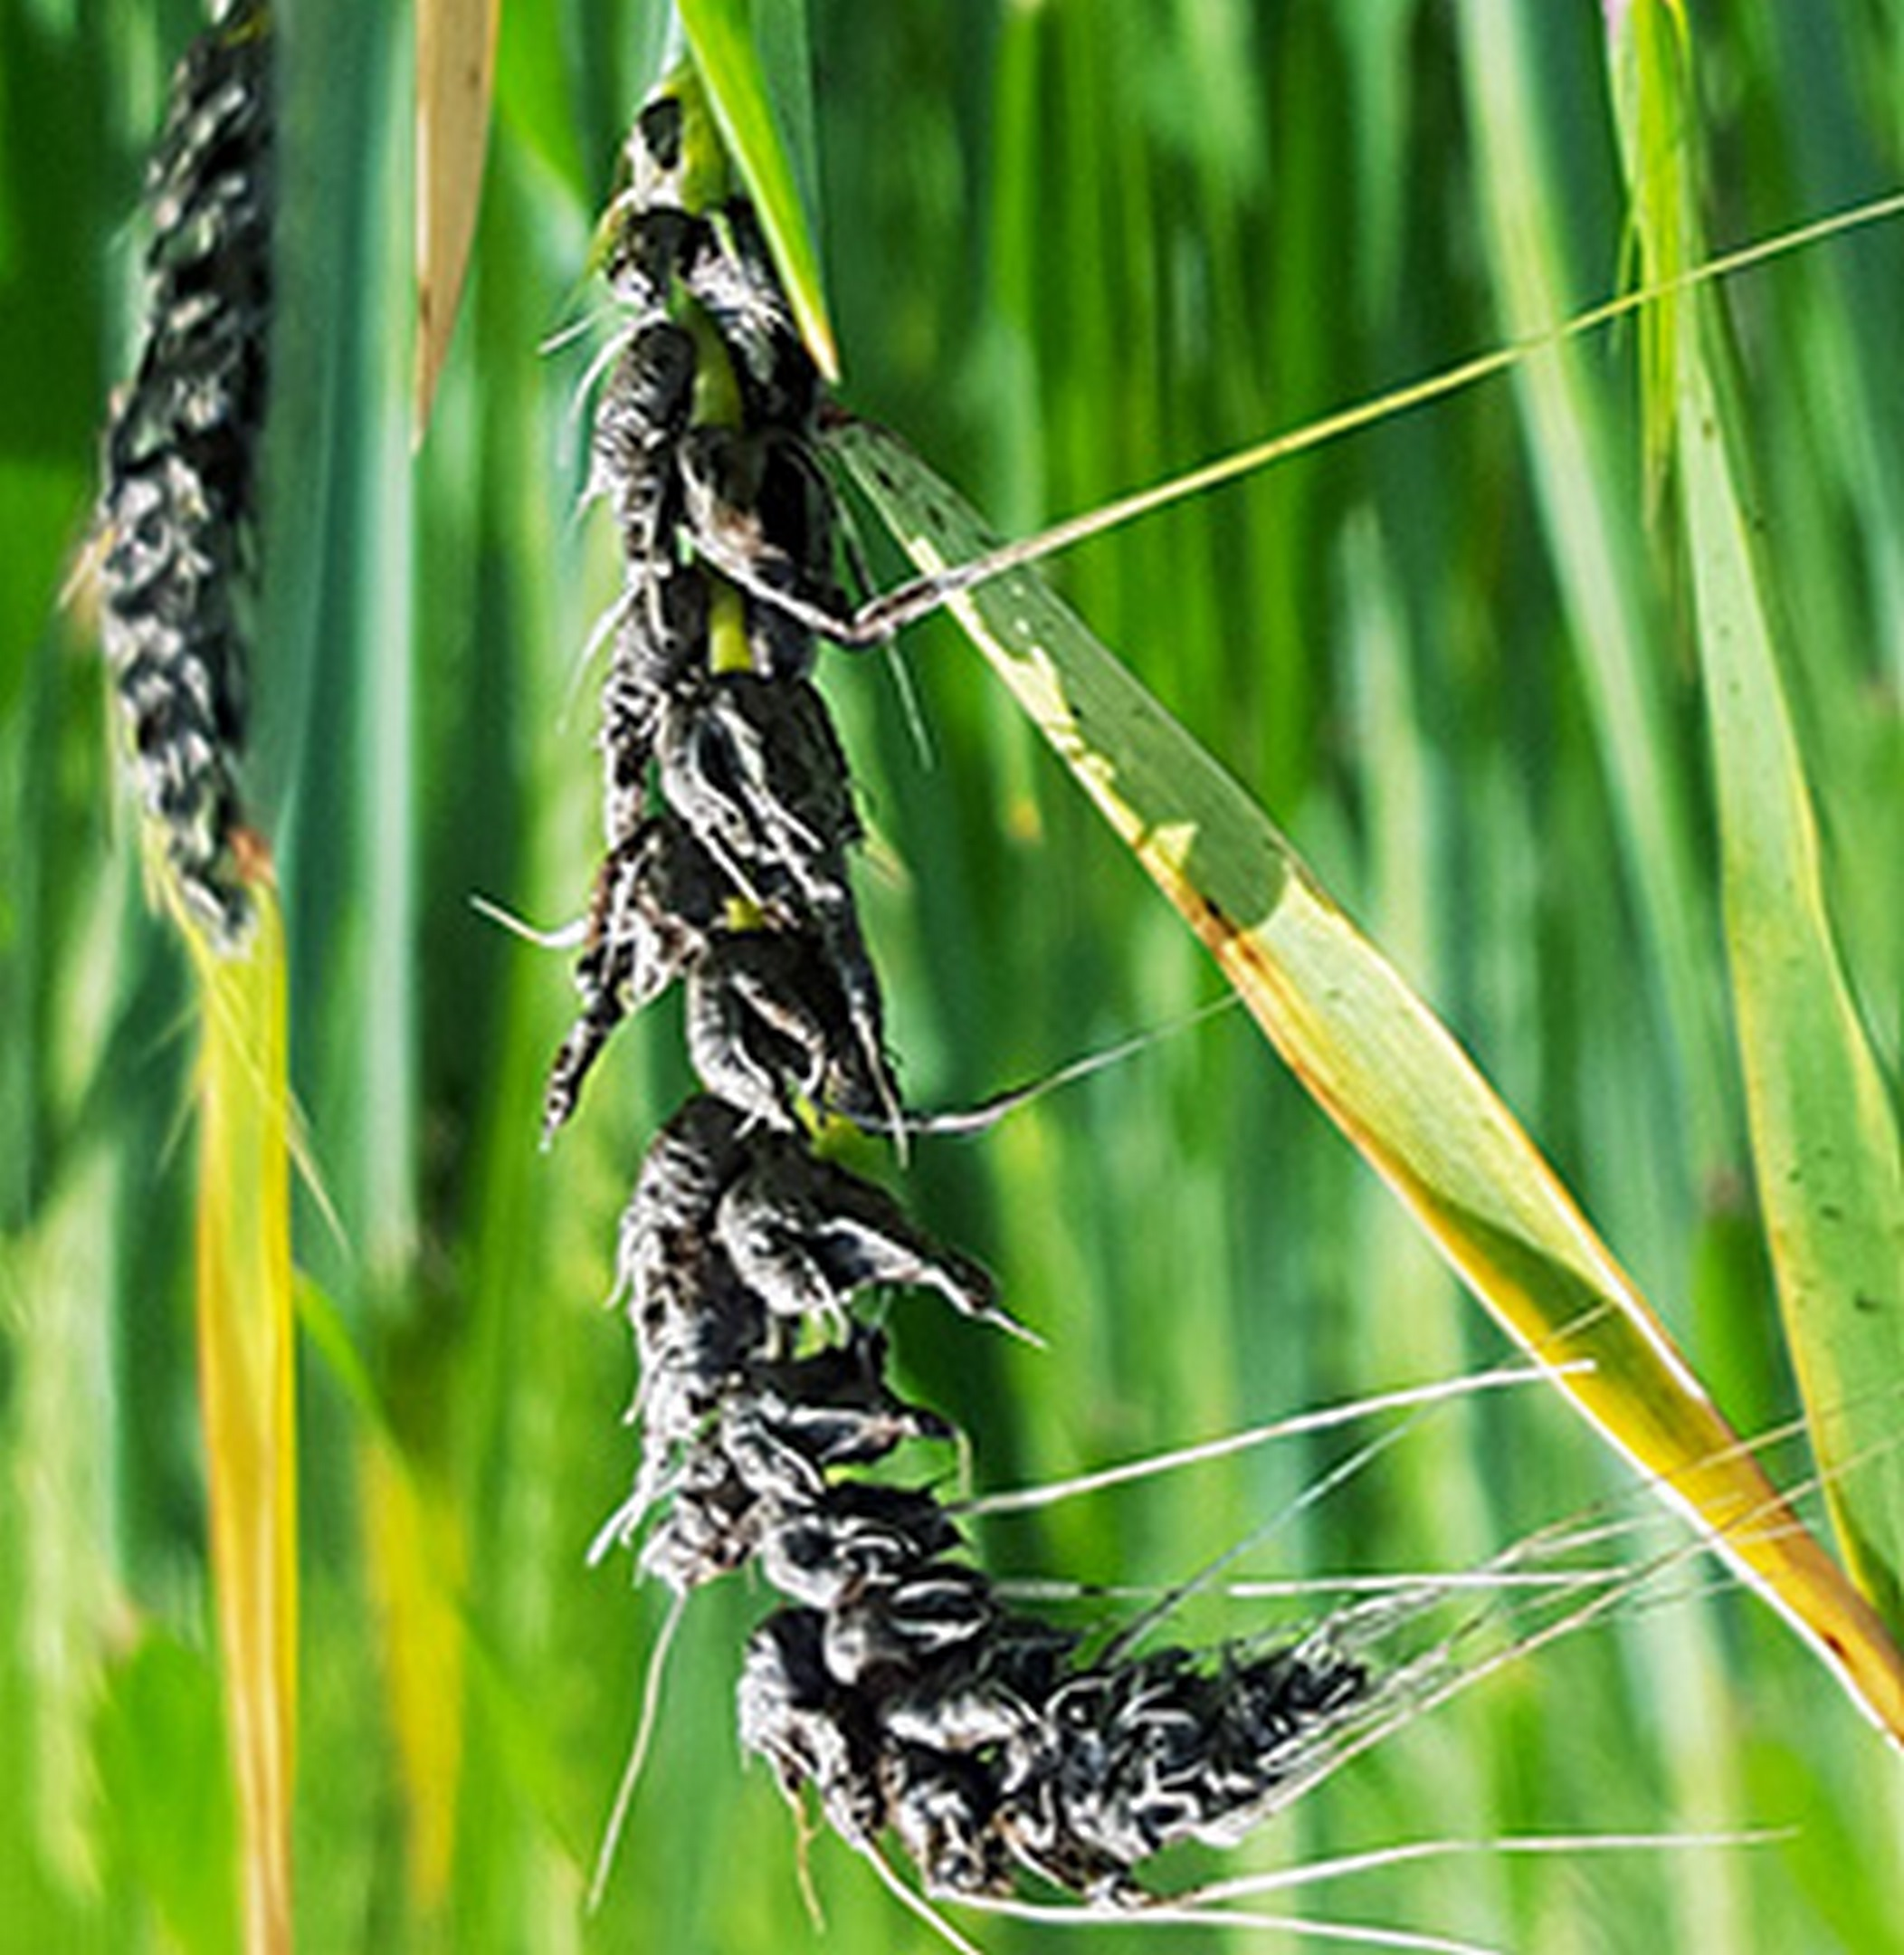Wheat Loose Smut: (565, 120, 1424, 1889)
